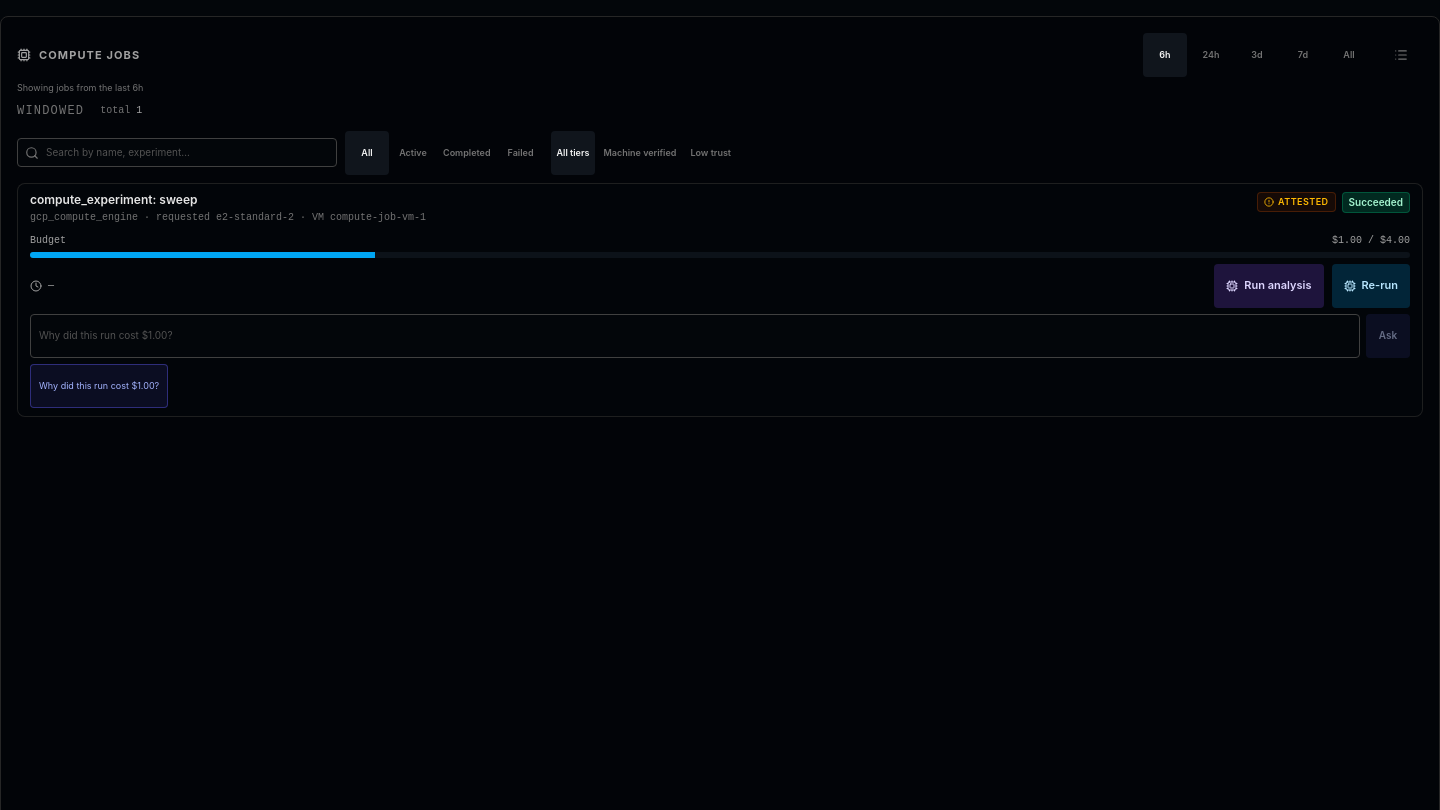
Scenario: ComputeJobsPanel render + kill › run analysis fetches and shows the knowledge doc when an id is returned
This screenshot has width=1440, height=810.
Click the button "Run analysis".
click(1269, 286)  # box [1214, 264, 1324, 308]
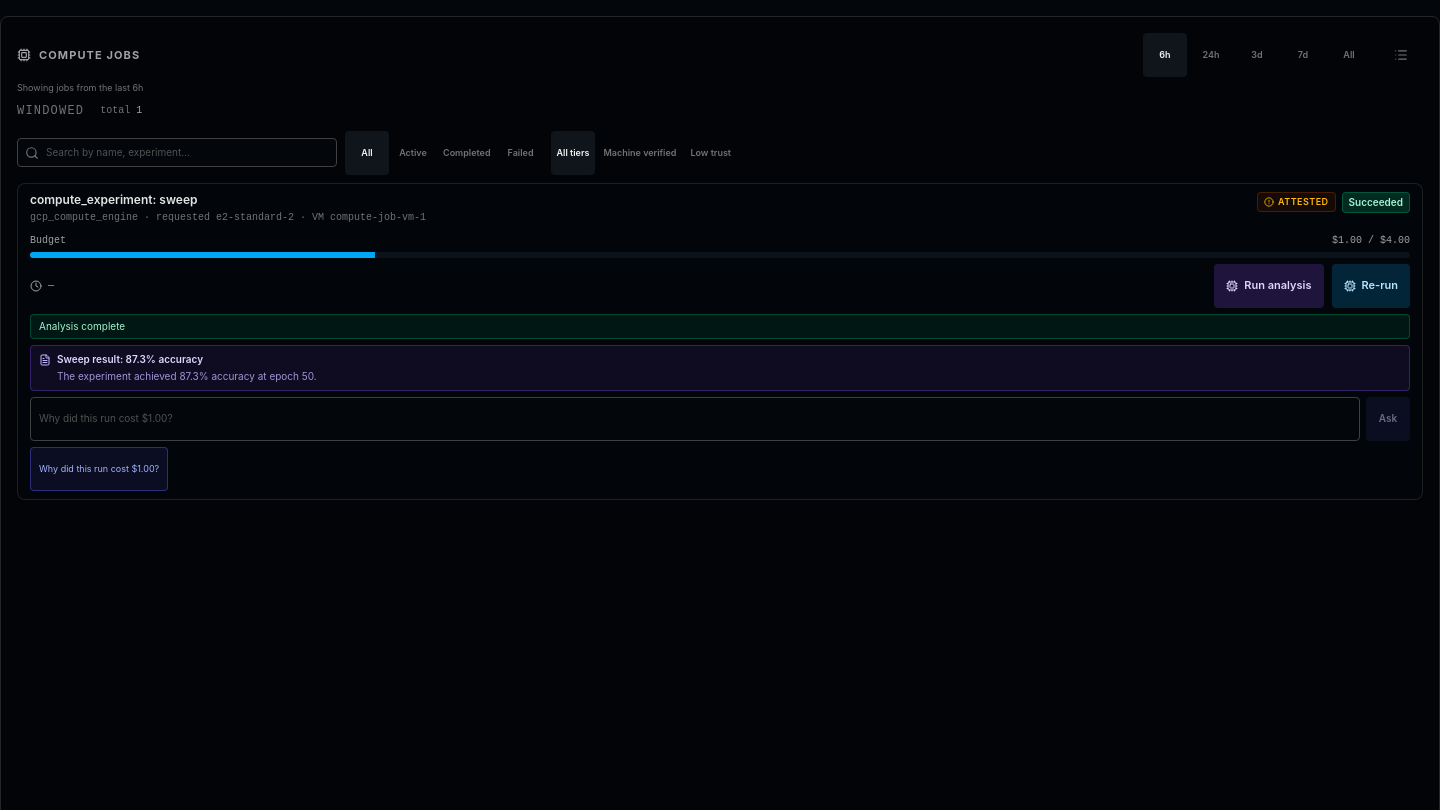
expect the element with test id "compute-analysis-doc" shows "Sweep result: 87.3% accuracy": met, box [57, 352, 1401, 366]
expect the element with test id "compute-analysis-doc" shows "87.3% accuracy at epoch 50": met, box [57, 370, 317, 382]
